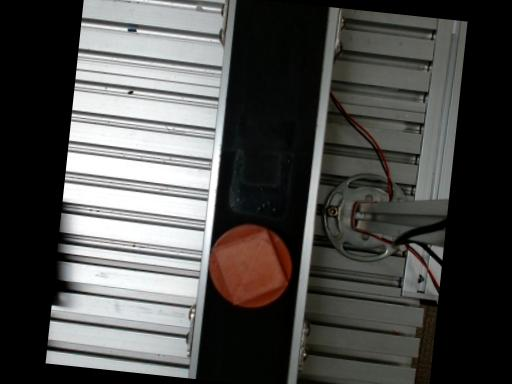Brown_Waper: (210, 223, 291, 306)
Square: (213, 226, 288, 305)
